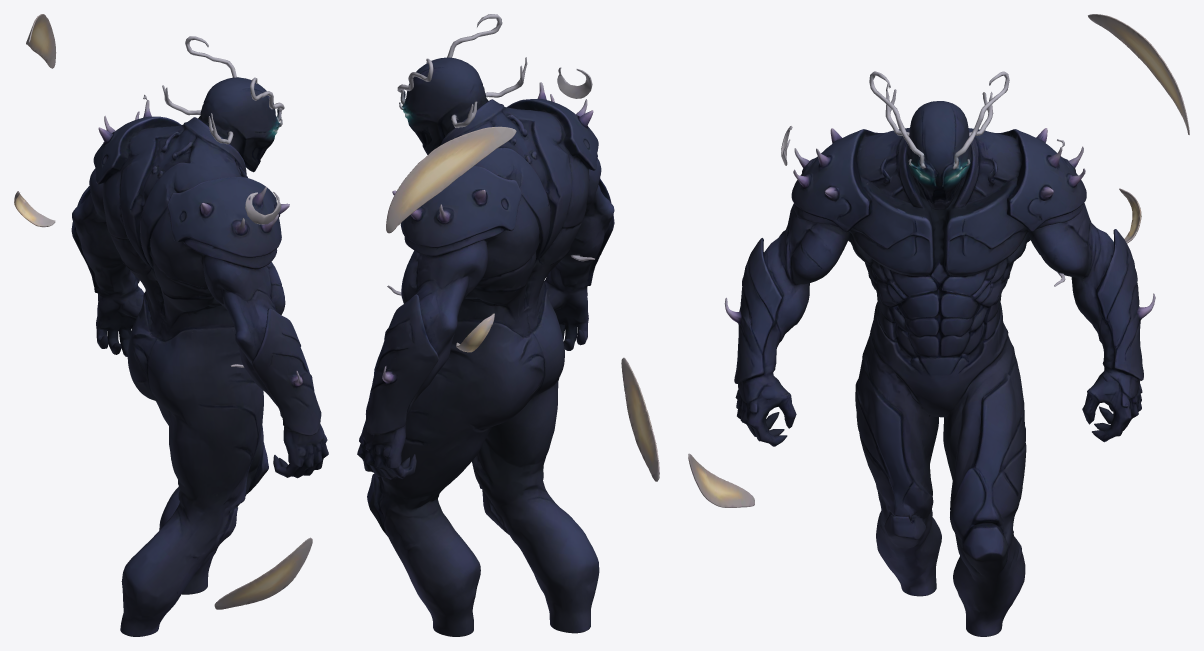
File: riftwalker.glb
3 views of the same model, side by side, from view 1: azimuth 30°, elevation 25°; view 2: azimuth 150°, elevation 25°; view 3: azimuth 270°, elevation 25° (orthographic). The views are drawn at different scales.
Parts seen in each view (by area): view 1: tripo_node_4f409eba-e8bb-4e04-bc93-3ce4d6fe6e0f; view 2: tripo_node_4f409eba-e8bb-4e04-bc93-3ce4d6fe6e0f; view 3: tripo_node_4f409eba-e8bb-4e04-bc93-3ce4d6fe6e0f.
Part boxes in pixels (bbox=[...]): tripo_node_4f409eba-e8bb-4e04-bc93-3ce4d6fe6e0f: bbox=[14, 14, 328, 636]; tripo_node_4f409eba-e8bb-4e04-bc93-3ce4d6fe6e0f: bbox=[357, 14, 659, 636]; tripo_node_4f409eba-e8bb-4e04-bc93-3ce4d6fe6e0f: bbox=[688, 14, 1189, 636].
Size of the model in its own units: 0.3634 by 1 by 0.8054.
Materials: 1 (1 with a texture image).
